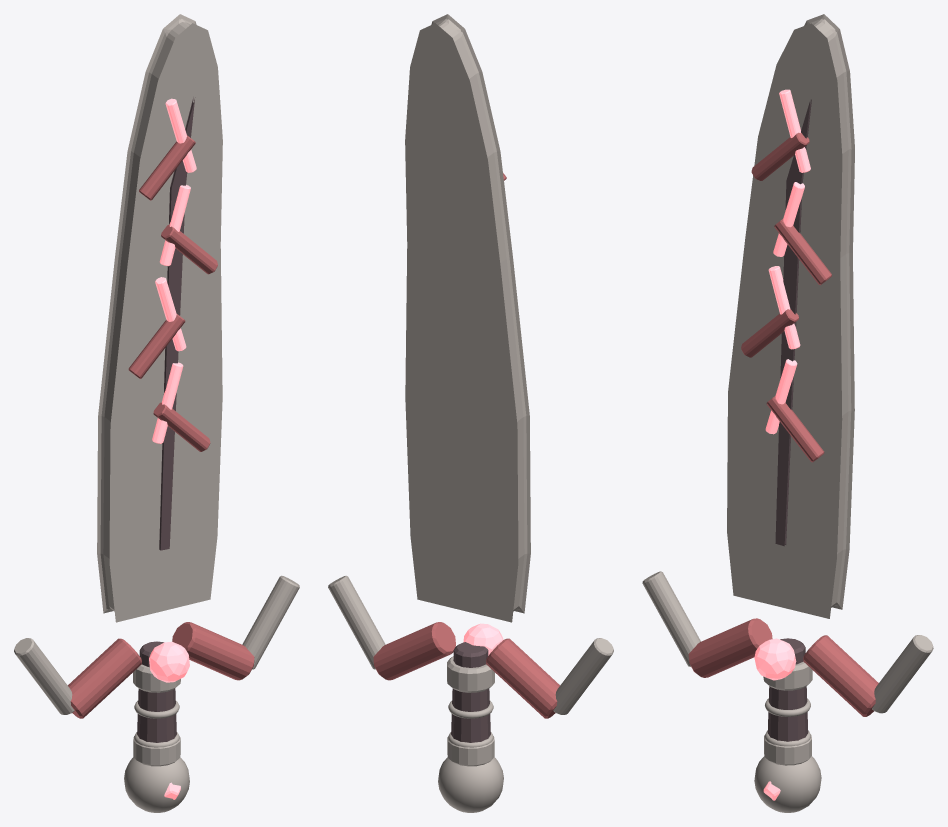
Rendered from warrior-sword-09-bloodfang-maw.glb.
3 renders of one model, left to right at view 1: azimuth 30°, elevation 25°; view 2: azimuth 150°, elevation 25°; view 3: azimuth 330°, elevation 25°, orthographic.
Parts seen in each view (by area): view 1: warrior-sword-09-bloodfang-maw_ForgedBlade, warrior-sword-09-bloodfang-maw_ColoredFuller, warrior-sword-09-bloodfang-maw_Guard_Left, warrior-sword-09-bloodfang-maw_Guard_Right, warrior-sword-09-bloodfang-maw_Pommel, warrior-sword-09-bloodfang-maw_Guard_RightTip, warrior-sword-09-bloodfang-maw_LeatherGrip, warrior-sword-09-bloodfang-maw_Guard_LeftTip, warrior-sword-09-bloodfang-maw_GuardGem, warrior-sword-09-bloodfang-maw_BloodfangTooth_2, warrior-sword-09-bloodfang-maw_BloodfangTooth_4, warrior-sword-09-bloodfang-maw_BloodfangTooth_1 (+7 smaller); view 2: warrior-sword-09-bloodfang-maw_ForgedBlade, warrior-sword-09-bloodfang-maw_Guard_Left, warrior-sword-09-bloodfang-maw_Guard_Right, warrior-sword-09-bloodfang-maw_Pommel, warrior-sword-09-bloodfang-maw_LeatherGrip, warrior-sword-09-bloodfang-maw_Guard_RightTip, warrior-sword-09-bloodfang-maw_Guard_LeftTip, warrior-sword-09-bloodfang-maw_UpperFerrule, warrior-sword-09-bloodfang-maw_LowerFerrule, warrior-sword-09-bloodfang-maw_GuardGem; view 3: warrior-sword-09-bloodfang-maw_ForgedBlade, warrior-sword-09-bloodfang-maw_ColoredFuller, warrior-sword-09-bloodfang-maw_Guard_Right, warrior-sword-09-bloodfang-maw_Guard_Left, warrior-sword-09-bloodfang-maw_Pommel, warrior-sword-09-bloodfang-maw_Guard_LeftTip, warrior-sword-09-bloodfang-maw_LeatherGrip, warrior-sword-09-bloodfang-maw_Guard_RightTip, warrior-sword-09-bloodfang-maw_GuardGem, warrior-sword-09-bloodfang-maw_BloodfangTooth_1, warrior-sword-09-bloodfang-maw_BloodfangTooth_3, warrior-sword-09-bloodfang-maw_BloodfangTooth_4 (+7 smaller).
Boxes of the visible parts, x1,y1,x2,y2 form: warrior-sword-09-bloodfang-maw_ForgedBlade: (97, 14, 222, 622); warrior-sword-09-bloodfang-maw_ColoredFuller: (159, 97, 195, 550); warrior-sword-09-bloodfang-maw_Guard_Left: (68, 638, 141, 718); warrior-sword-09-bloodfang-maw_Guard_Right: (172, 622, 254, 680); warrior-sword-09-bloodfang-maw_Pommel: (124, 757, 189, 812); warrior-sword-09-bloodfang-maw_Guard_RightTip: (242, 575, 299, 669); warrior-sword-09-bloodfang-maw_LeatherGrip: (137, 641, 176, 742); warrior-sword-09-bloodfang-maw_Guard_LeftTip: (14, 638, 74, 714); warrior-sword-09-bloodfang-maw_GuardGem: (149, 641, 189, 682); warrior-sword-09-bloodfang-maw_BloodfangTooth_2: (128, 313, 185, 378); warrior-sword-09-bloodfang-maw_BloodfangTooth_4: (139, 135, 195, 200); warrior-sword-09-bloodfang-maw_BloodfangTooth_1: (153, 402, 210, 451); warrior-sword-09-bloodfang-maw_ForgedBlade: (405, 14, 530, 622); warrior-sword-09-bloodfang-maw_Guard_Left: (486, 638, 559, 718); warrior-sword-09-bloodfang-maw_Guard_Right: (373, 622, 455, 680); warrior-sword-09-bloodfang-maw_Pommel: (438, 757, 503, 812); warrior-sword-09-bloodfang-maw_LeatherGrip: (451, 642, 490, 742); warrior-sword-09-bloodfang-maw_Guard_RightTip: (328, 575, 385, 669); warrior-sword-09-bloodfang-maw_Guard_LeftTip: (553, 638, 613, 714); warrior-sword-09-bloodfang-maw_UpperFerrule: (447, 656, 494, 692); warrior-sword-09-bloodfang-maw_LowerFerrule: (447, 736, 494, 766); warrior-sword-09-bloodfang-maw_GuardGem: (463, 623, 503, 655); warrior-sword-09-bloodfang-maw_ForgedBlade: (727, 14, 854, 618); warrior-sword-09-bloodfang-maw_ColoredFuller: (775, 99, 811, 546); warrior-sword-09-bloodfang-maw_Guard_Right: (803, 635, 878, 716); warrior-sword-09-bloodfang-maw_Guard_Left: (688, 618, 772, 677); warrior-sword-09-bloodfang-maw_Pommel: (754, 756, 821, 812); warrior-sword-09-bloodfang-maw_Guard_LeftTip: (642, 571, 700, 666); warrior-sword-09-bloodfang-maw_LeatherGrip: (767, 638, 808, 741); warrior-sword-09-bloodfang-maw_Guard_RightTip: (872, 635, 933, 713); warrior-sword-09-bloodfang-maw_GuardGem: (754, 638, 796, 680); warrior-sword-09-bloodfang-maw_BloodfangTooth_1: (766, 396, 824, 462); warrior-sword-09-bloodfang-maw_BloodfangTooth_3: (774, 219, 831, 285); warrior-sword-09-bloodfang-maw_BloodfangTooth_4: (751, 132, 809, 180).
Bounding box in the file's own units: 0.6287 × 1.67 × 0.15.
